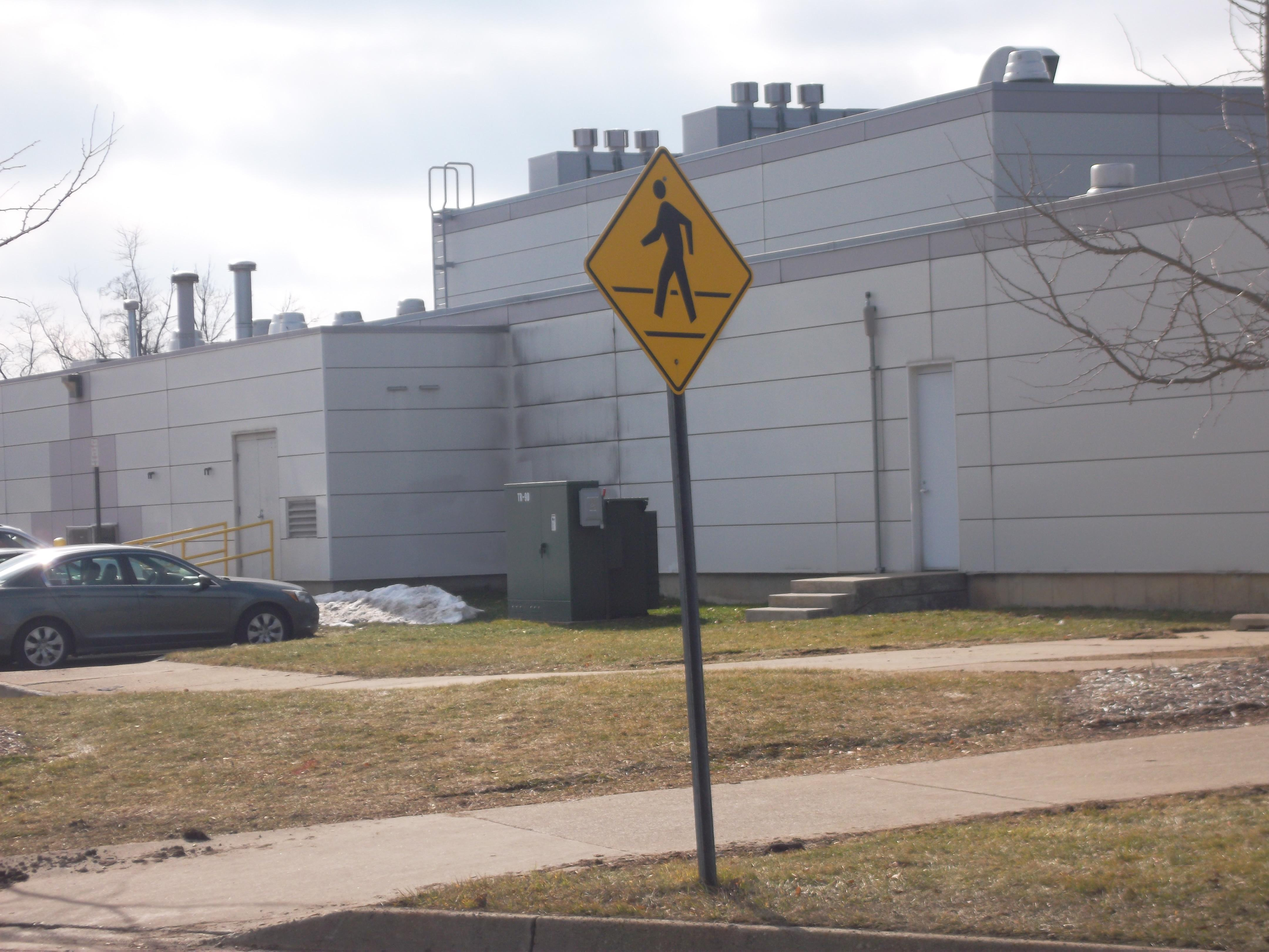Pedestrian Crossing: (561, 224, 685, 419)
